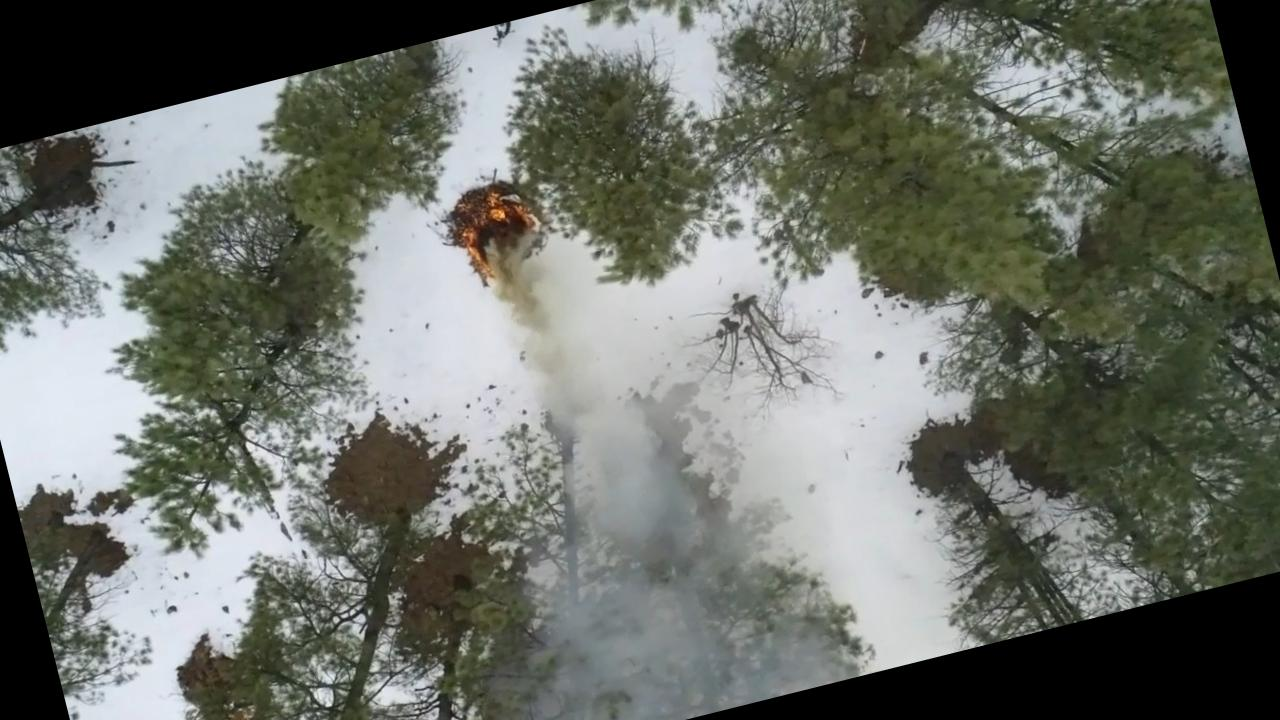fire: (436, 175, 552, 294)
smoke: (557, 528, 828, 720), (506, 398, 743, 586)
